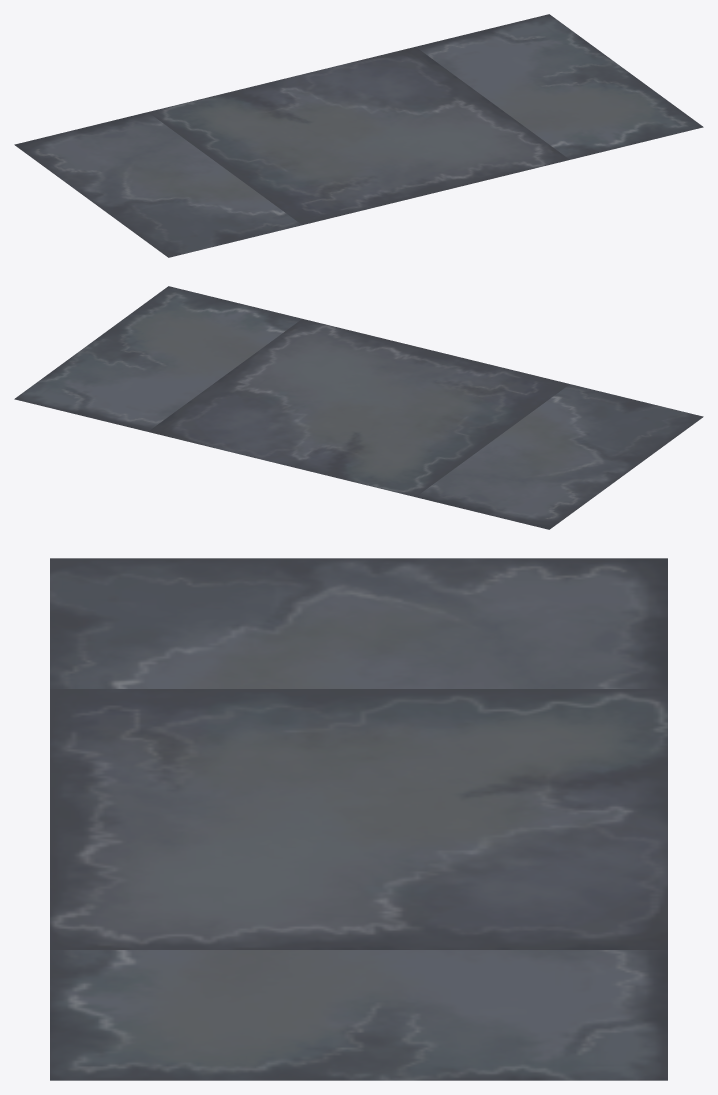
Rendered from Castle Ground X Dark 1x2.fbx.
3 renders of one model, top to bottom at view 1: azimuth 30°, elevation 25°; view 2: azimuth 150°, elevation 25°; view 3: azimuth 270°, elevation 25°, orthographic. The views are drawn at different scales.
Visible parts, largest first — view 1: Castle Ground X Dark 1x2; view 2: Castle Ground X Dark 1x2; view 3: Castle Ground X Dark 1x2.
Part boxes in pixels (bbox=[...]): Castle Ground X Dark 1x2: bbox=[14, 14, 703, 257]; Castle Ground X Dark 1x2: bbox=[14, 286, 703, 529]; Castle Ground X Dark 1x2: bbox=[50, 558, 667, 1080].
Bounding box in the file's own units: 1.5 × 2.34e-07 × 0.75.
